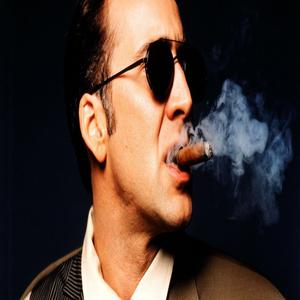cigarette: (168, 141, 216, 169)
